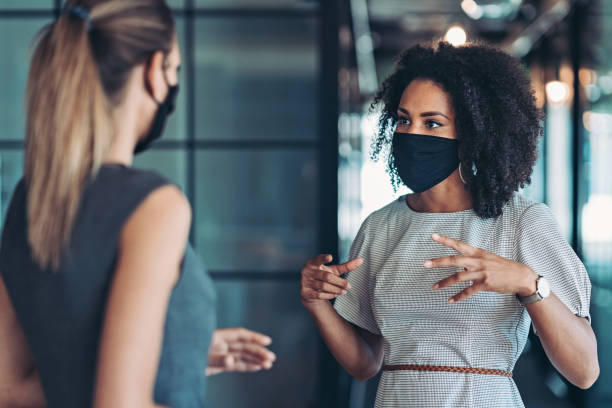with mask: (59, 1, 192, 159), (387, 42, 507, 205)
